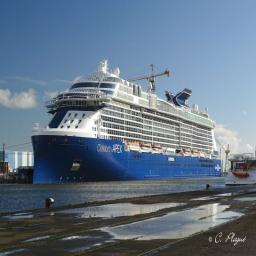cruises: (29, 58, 226, 182)
